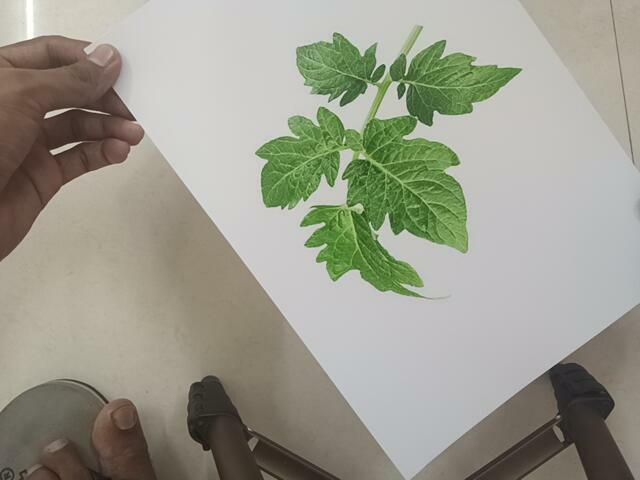Tomamto_Leaf_Healthy: (238, 3, 541, 315)
